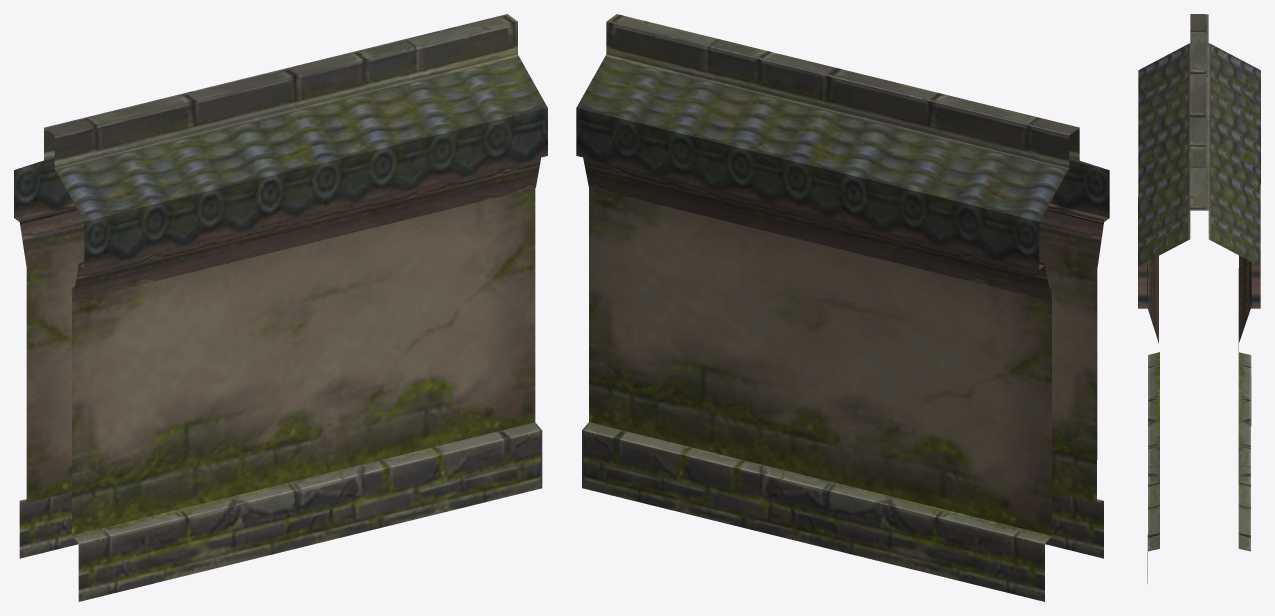
The model's file is 4009_Item_jianzhu_7.FBX.
The picture shows the model from 3 angles, left to right: view 1: azimuth 30°, elevation 25°; view 2: azimuth 150°, elevation 25°; view 3: azimuth 270°, elevation 25°; orthographic projection. The views are drawn at different scales.
Visible parts, largest first — view 1: 4009_Item_jianzhu_7; view 2: 4009_Item_jianzhu_7; view 3: 4009_Item_jianzhu_7.
Boxes of the visible parts, <box> form: 4009_Item_jianzhu_7: <box>14,14,547,601</box>; 4009_Item_jianzhu_7: <box>576,14,1109,601</box>; 4009_Item_jianzhu_7: <box>1138,14,1260,583</box>.
Size of the model in its own units: 363 by 337 by 95.64.
